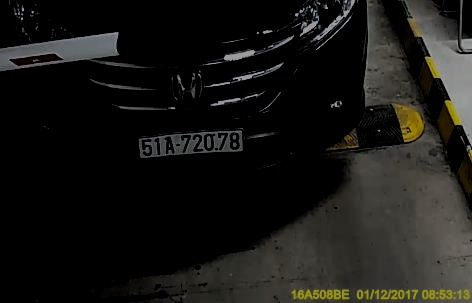plate: (134, 128, 244, 156)
